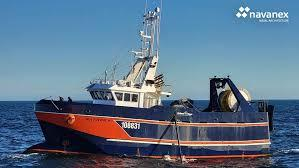Ship: (30, 3, 276, 162)
